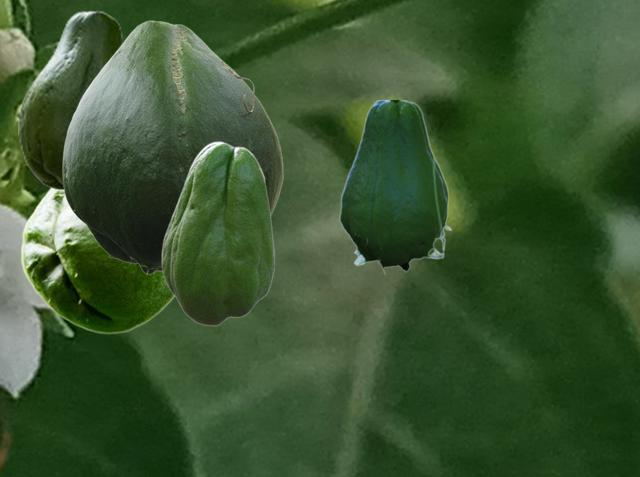sayote: (62, 20, 282, 275), (20, 188, 174, 333), (161, 141, 274, 325), (339, 100, 451, 274), (18, 10, 125, 189)
